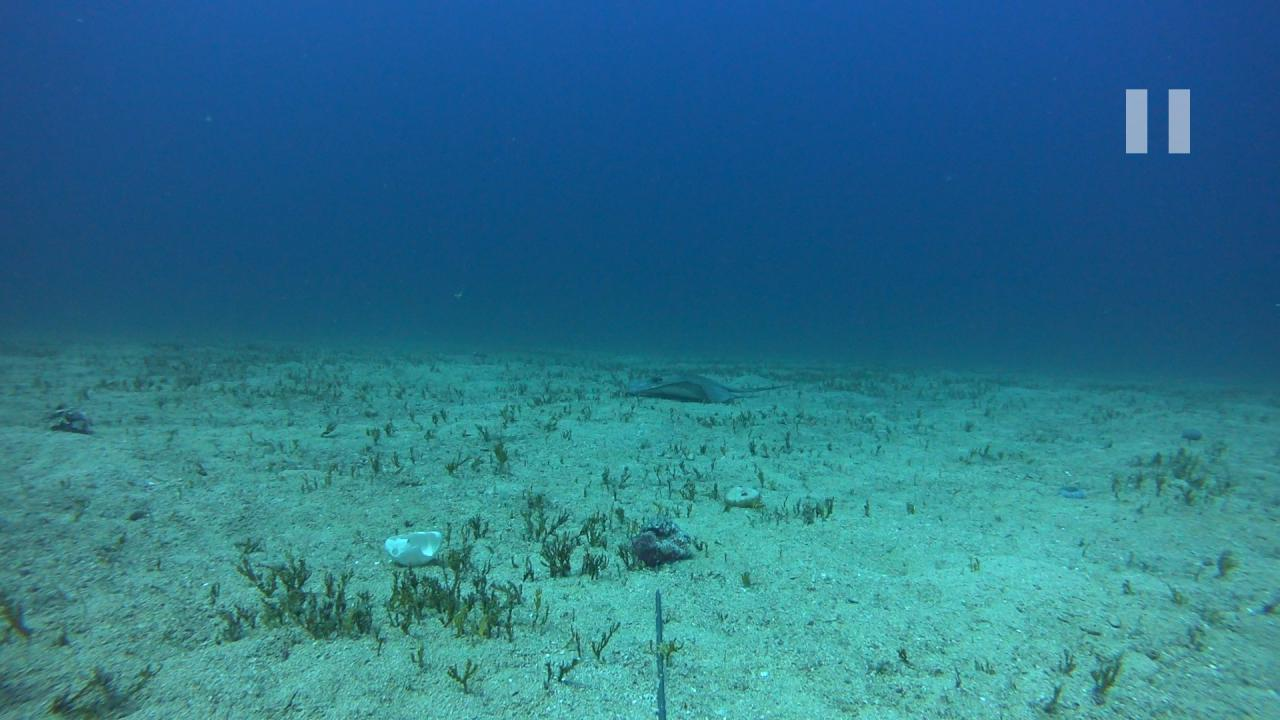dasyatis: (626, 370, 798, 400)
